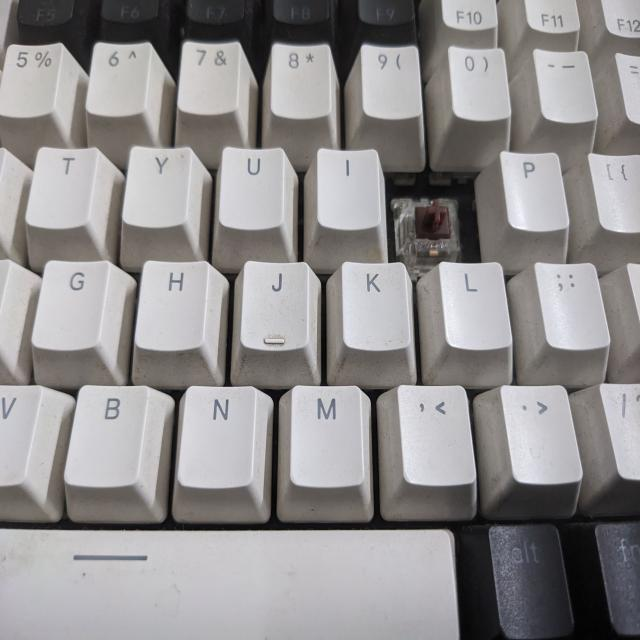C: (392, 180, 465, 253)
